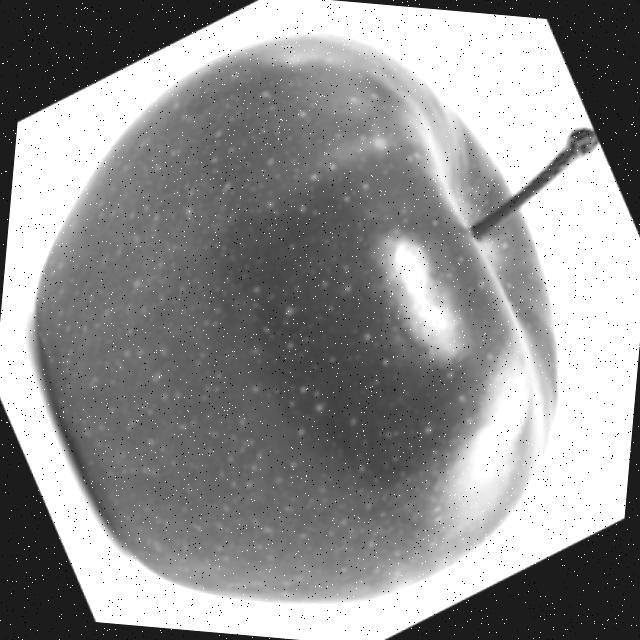Ripe: (9, 6, 594, 630)
